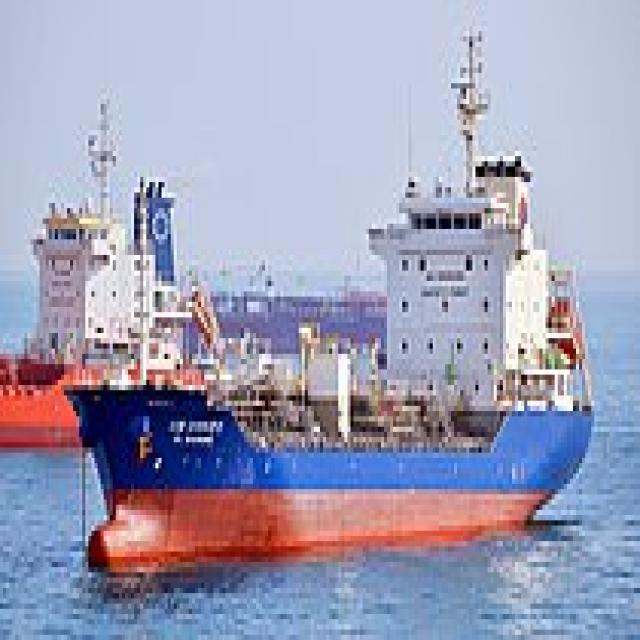Tanker: (55, 15, 594, 578), (0, 68, 232, 452)
